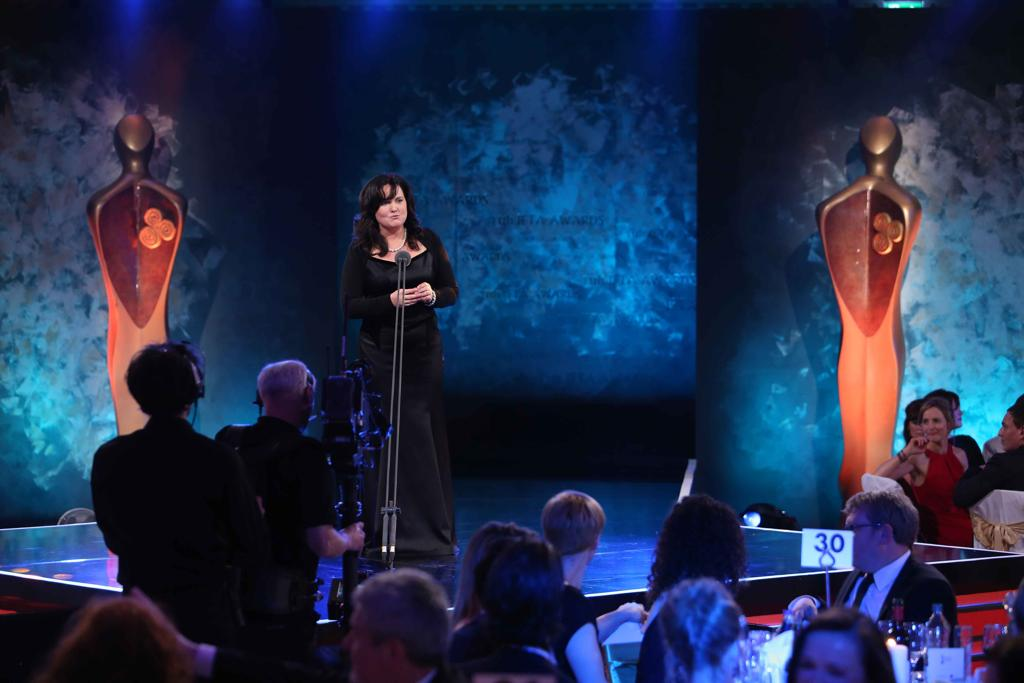face: (340, 610, 389, 682), (792, 638, 857, 683), (843, 510, 879, 565), (376, 186, 407, 226), (921, 411, 946, 442), (997, 413, 1017, 449), (946, 398, 963, 426), (909, 418, 924, 438)
